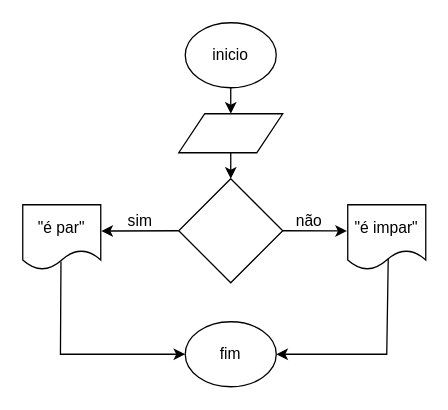
This 448x410 diagram has some shape labels left out. Here are the shapes that lost their labels. From the top down, the centre of each, then its label:
At point (230, 132): "leia numero".
At point (230, 230): "if numero % 2".
